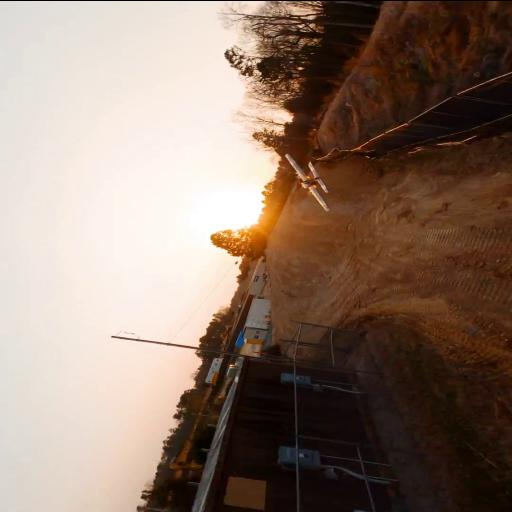uav: (282, 152, 334, 212)
